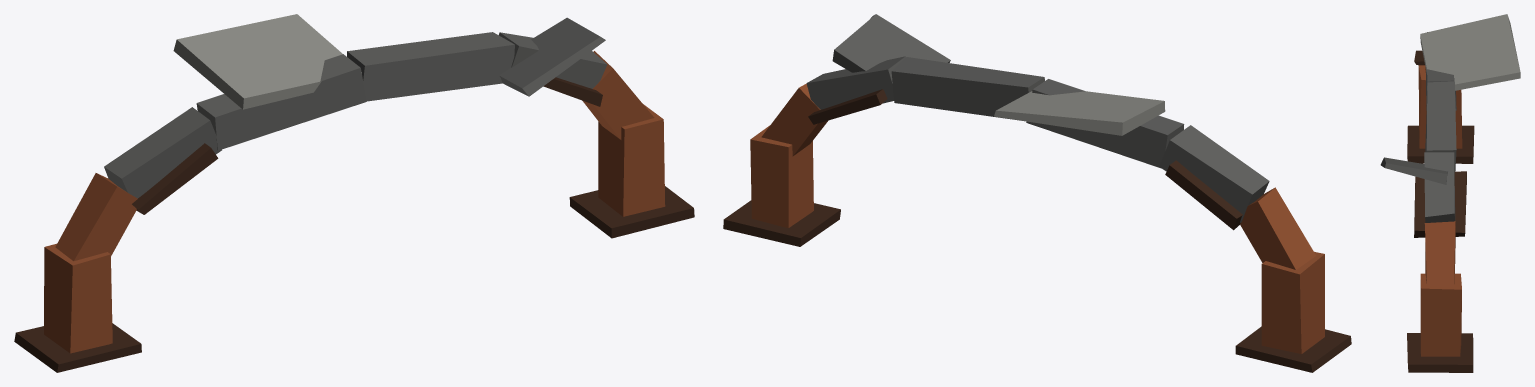
File: hull_rib.glb
3 renders of one model, left to right at view 1: azimuth 30°, elevation 25°; view 2: azimuth 150°, elevation 25°; view 3: azimuth 270°, elevation 25°, orthographic. The views are drawn at different scales.
Parts seen in each view (by area): view 1: hull_rib; view 2: hull_rib; view 3: hull_rib.
Part boxes in pixels (x1,y1,x2,y2): hull_rib: (14,14,694,372); hull_rib: (723,14,1351,372); hull_rib: (1380,14,1520,372).
Bounding box in the file's own units: 6.92 × 2.53 × 1.7.
